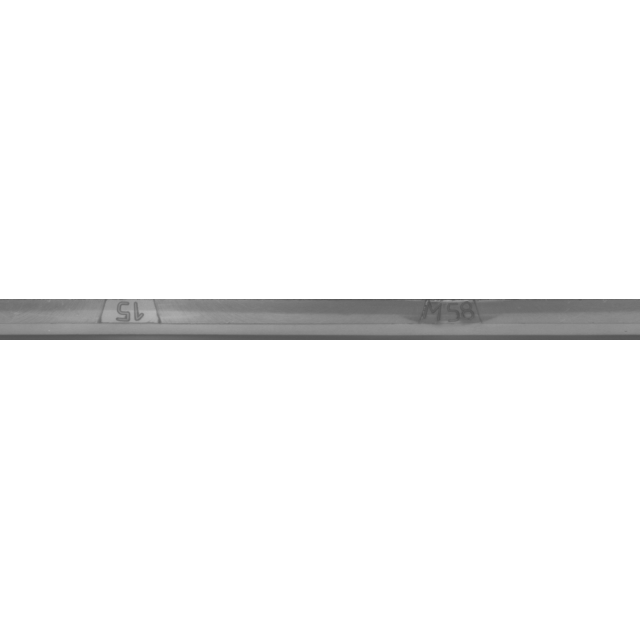mohao: (341, 270, 541, 370)
xuehao: (32, 270, 232, 370)
